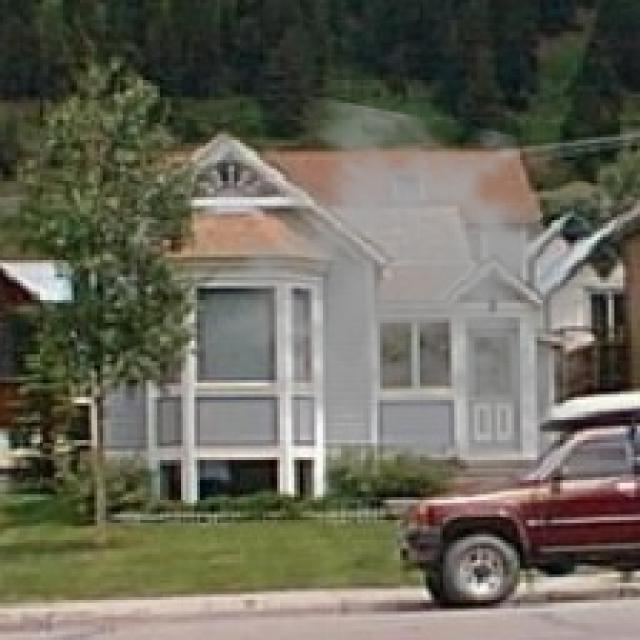Smoke: (215, 97, 634, 497)
